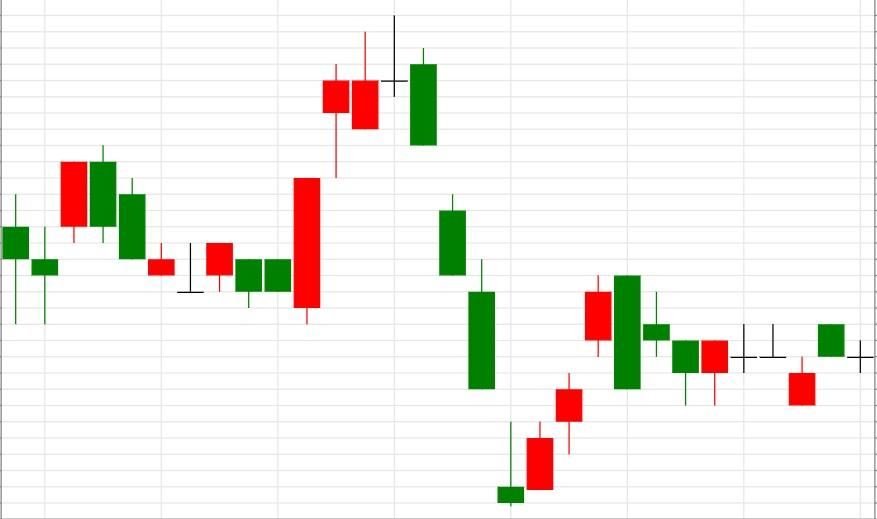bearish_engulfing_fall: (497, 275, 642, 507), (0, 145, 118, 324)
inverse_hammer_rise: (351, 14, 526, 507)
three_white_soldiers_rise: (380, 14, 613, 508)
